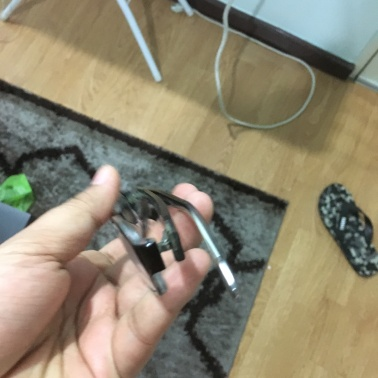glasses: (103, 186, 240, 282)
